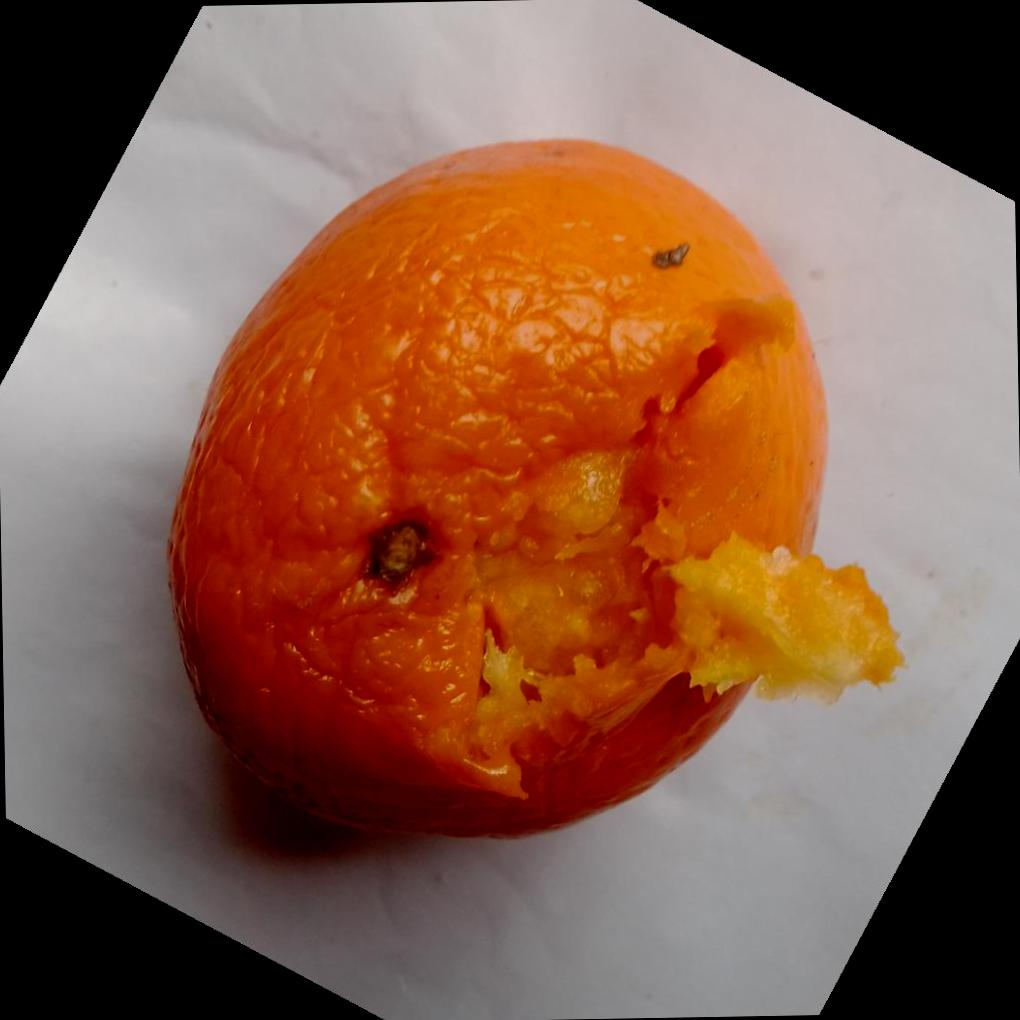FreshOrange: (162, 137, 905, 844)
